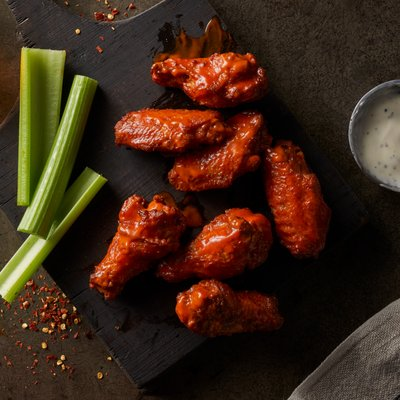sushi: (348, 78, 400, 194)
